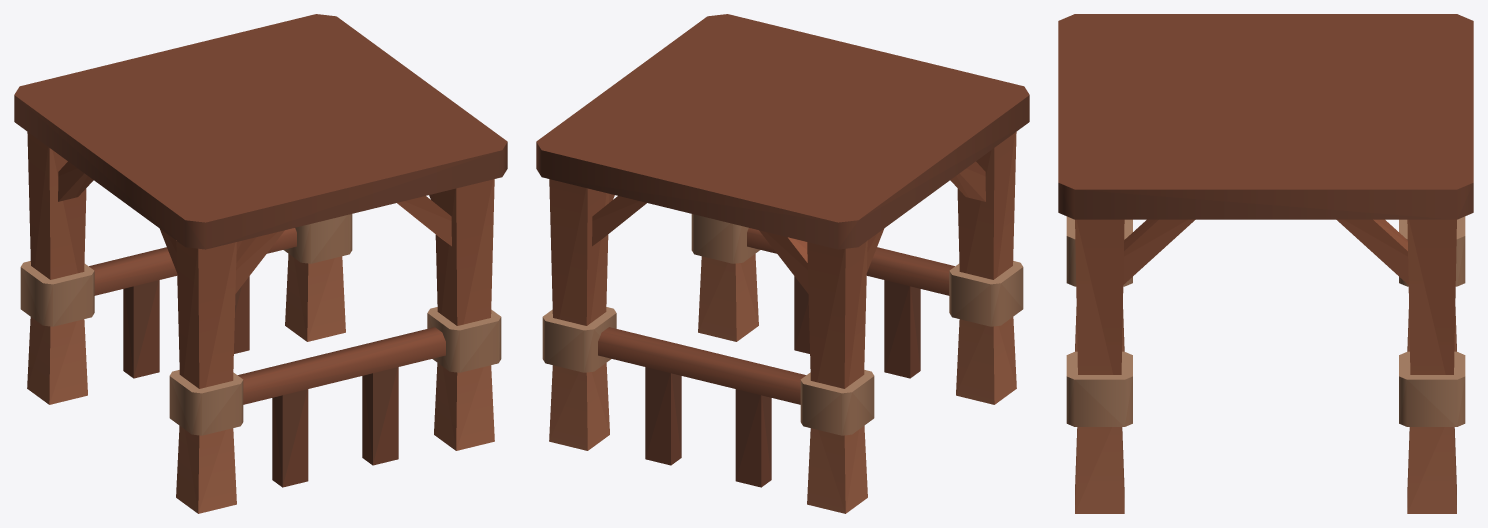
The model's file is pirate_structure_fence.glb.
3 views of the same model, side by side, from view 1: azimuth 30°, elevation 25°; view 2: azimuth 150°, elevation 25°; view 3: azimuth 270°, elevation 25° (orthographic). The views are drawn at different scales.
Visible parts, largest first — view 1: pirate_structure_fence; view 2: pirate_structure_fence; view 3: pirate_structure_fence.
Part boxes in pixels (x1,y1,x2,y2): pirate_structure_fence: (14,14,507,513); pirate_structure_fence: (536,14,1029,513); pirate_structure_fence: (1058,14,1473,513).
Size of the model in its own units: 2.5 by 2.2 by 2.5.
